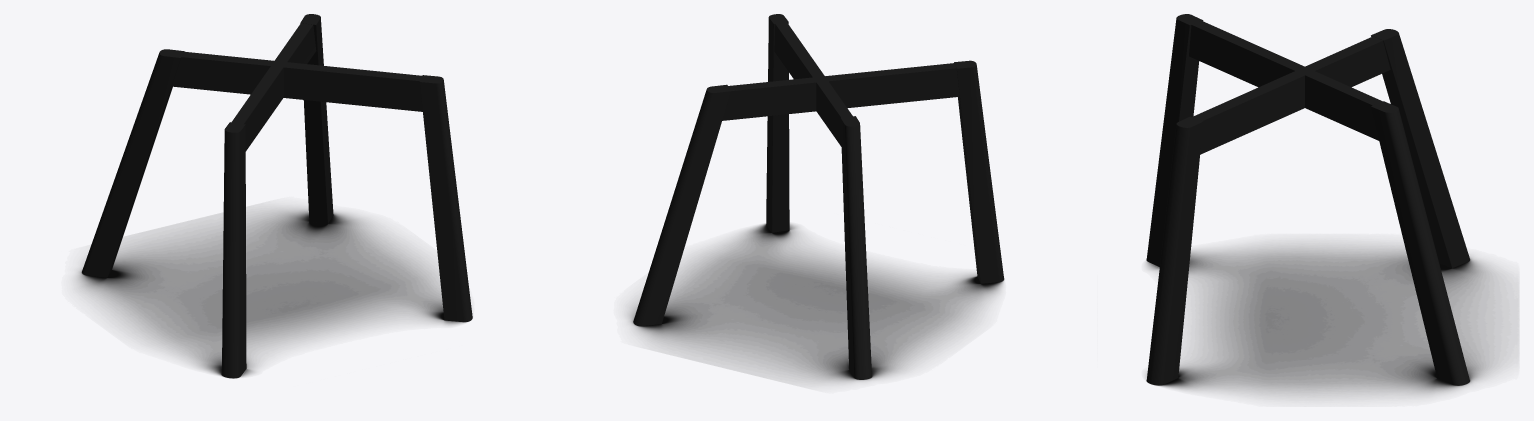
The model's file is Edged.glb.
3 views of the same model, side by side, from view 1: azimuth 30°, elevation 25°; view 2: azimuth 150°, elevation 25°; view 3: azimuth 270°, elevation 25° (orthographic). The views are drawn at different scales.
Visible parts, largest first — view 1: Shadow_slim, legs; view 2: Shadow_slim, legs; view 3: legs, Shadow_slim.
Part boxes in pixels (left/top/right/bottom): Shadow_slim: left=77, top=208, right=472, bottom=378; legs: left=82, top=14, right=472, bottom=378; Shadow_slim: left=628, top=223, right=1004, bottom=382; legs: left=633, top=14, right=1003, bottom=379; legs: left=1146, top=14, right=1469, bottom=385; Shadow_slim: left=1146, top=244, right=1511, bottom=396.
Size of the model in its own units: 0.5956 by 0.4001 by 0.6133.
2 materials, 1 textured.
